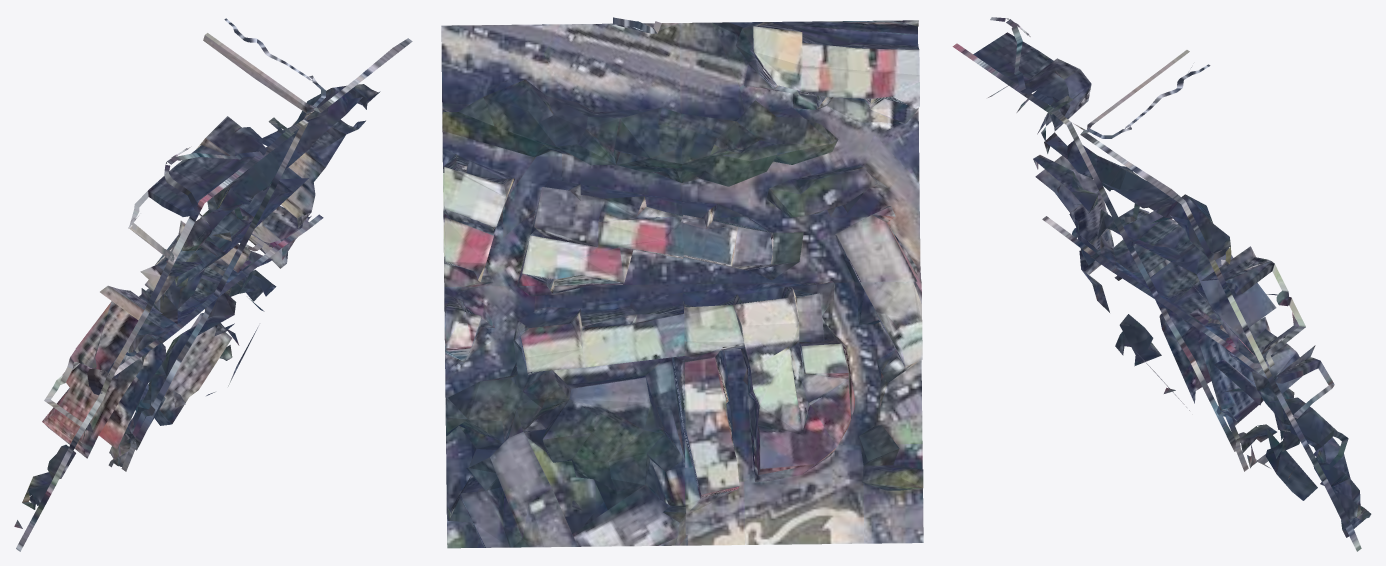
3 renders of one model, left to right at view 1: azimuth 30°, elevation 25°; view 2: azimuth 150°, elevation 25°; view 3: azimuth 270°, elevation 25°, orthographic. The views are drawn at different scales.
Size of the model in its own units: 154 by 158 by 133.
1 material, 1 textured.
